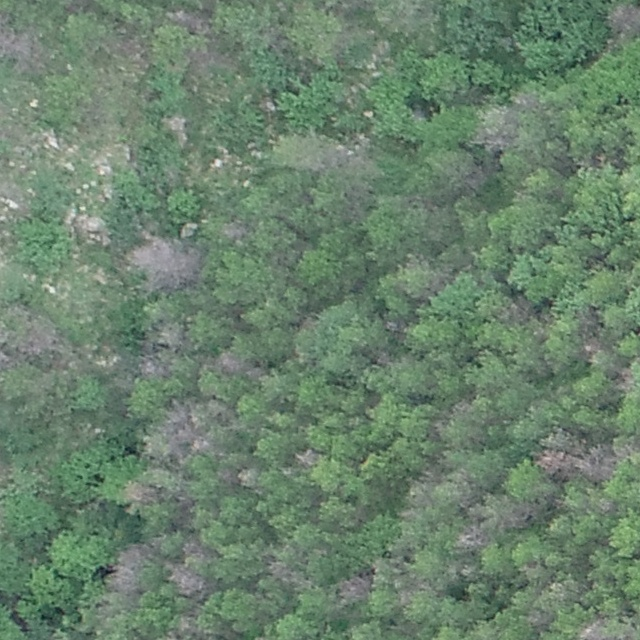unhealthy: (146, 398, 226, 462), (129, 231, 203, 293), (103, 541, 153, 597), (0, 17, 46, 75), (15, 311, 66, 360), (471, 105, 525, 151), (142, 318, 189, 366), (166, 563, 209, 597), (577, 446, 617, 482), (266, 555, 308, 588), (498, 499, 541, 529), (604, 2, 639, 37), (336, 572, 374, 603), (166, 6, 209, 33), (534, 448, 574, 476), (121, 479, 159, 505), (454, 524, 489, 552), (180, 536, 214, 563), (576, 616, 612, 640), (218, 217, 250, 242), (212, 350, 244, 374), (512, 88, 542, 111), (526, 606, 554, 629), (295, 448, 321, 468)
